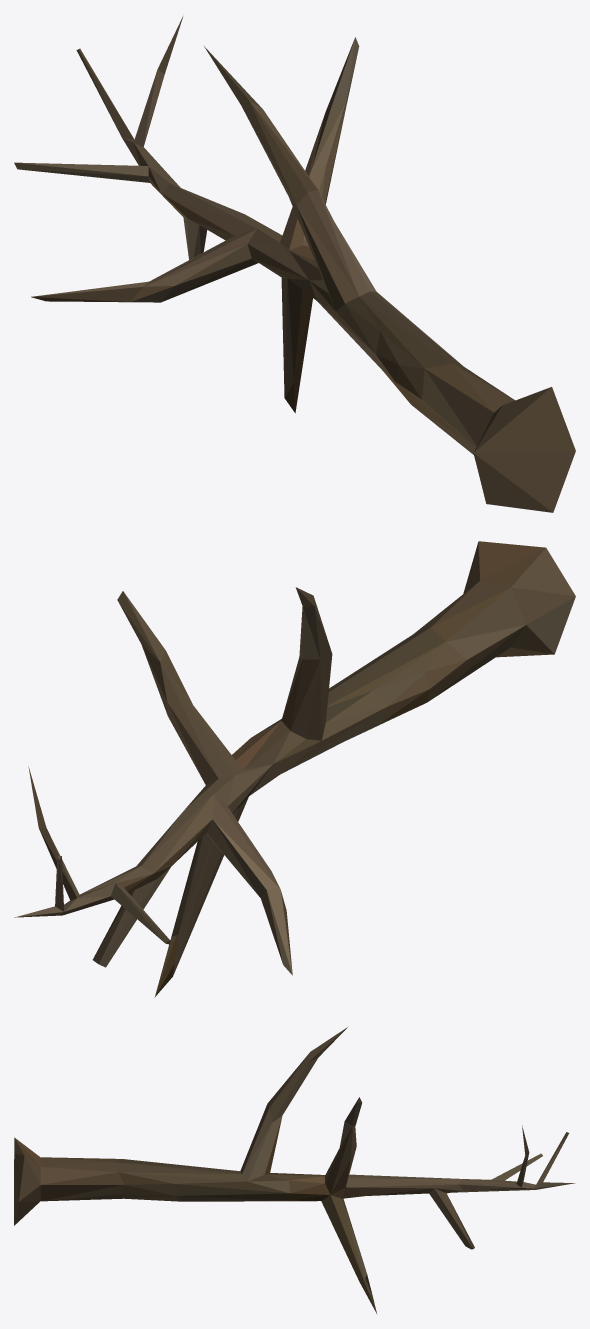
Rendered from Tree-Dead_A-DetailB.fbx.
3 views of the same model, one above another, from view 1: azimuth 30°, elevation 25°; view 2: azimuth 150°, elevation 25°; view 3: azimuth 270°, elevation 25° (orthographic). The views are drawn at different scales.
Parts seen in each view (by area): view 1: Tree-Dead_A-DetailB; view 2: Tree-Dead_A-DetailB; view 3: Tree-Dead_A-DetailB.
Part boxes in pixels (<box>): Tree-Dead_A-DetailB: <box>14,16,575,512</box>; Tree-Dead_A-DetailB: <box>14,541,575,997</box>; Tree-Dead_A-DetailB: <box>14,1027,575,1314</box>.
Bounding box in the file's own units: 400 × 634 × 1271.
